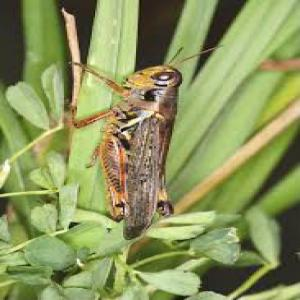locust: (73, 42, 204, 250)
